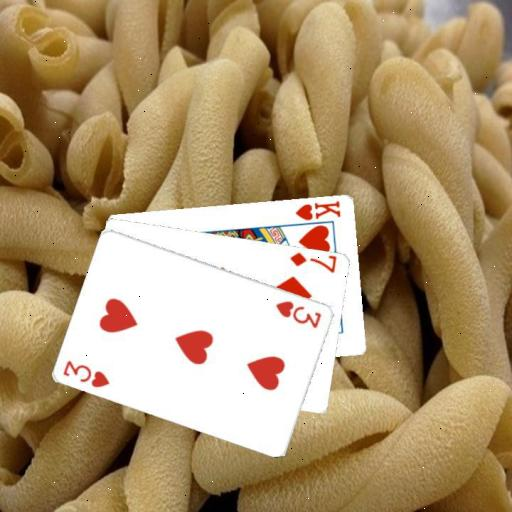3H: (61, 357, 112, 389), (274, 297, 324, 329)
7D: (287, 249, 338, 275)
KH: (292, 197, 342, 222)
